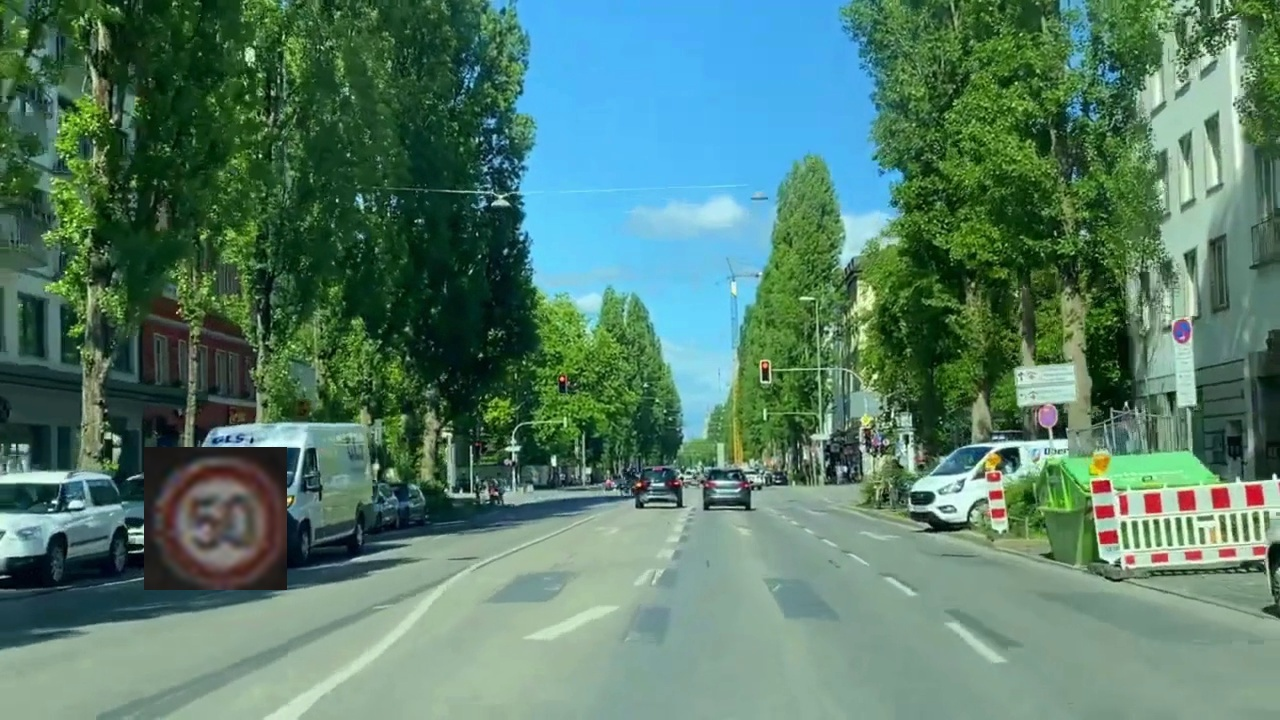Speed 50: (144, 447, 287, 590)
